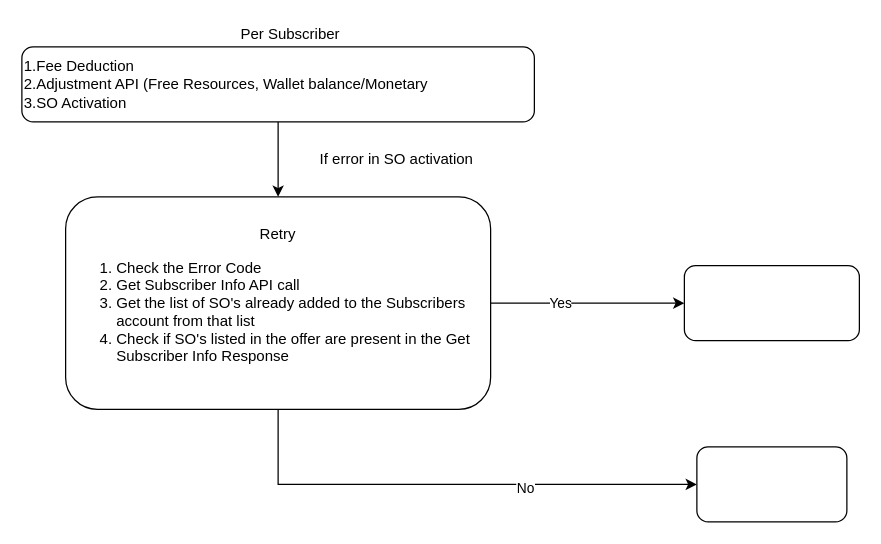
Some shapes in this 881 by 544 pixel diagram are drawn without their labels. Here are the shapes that lost their labels. From the top down, the box of each, then its label:
(683, 264, 859, 341): Do not retry
(696, 446, 847, 522): Retry SO Activation
